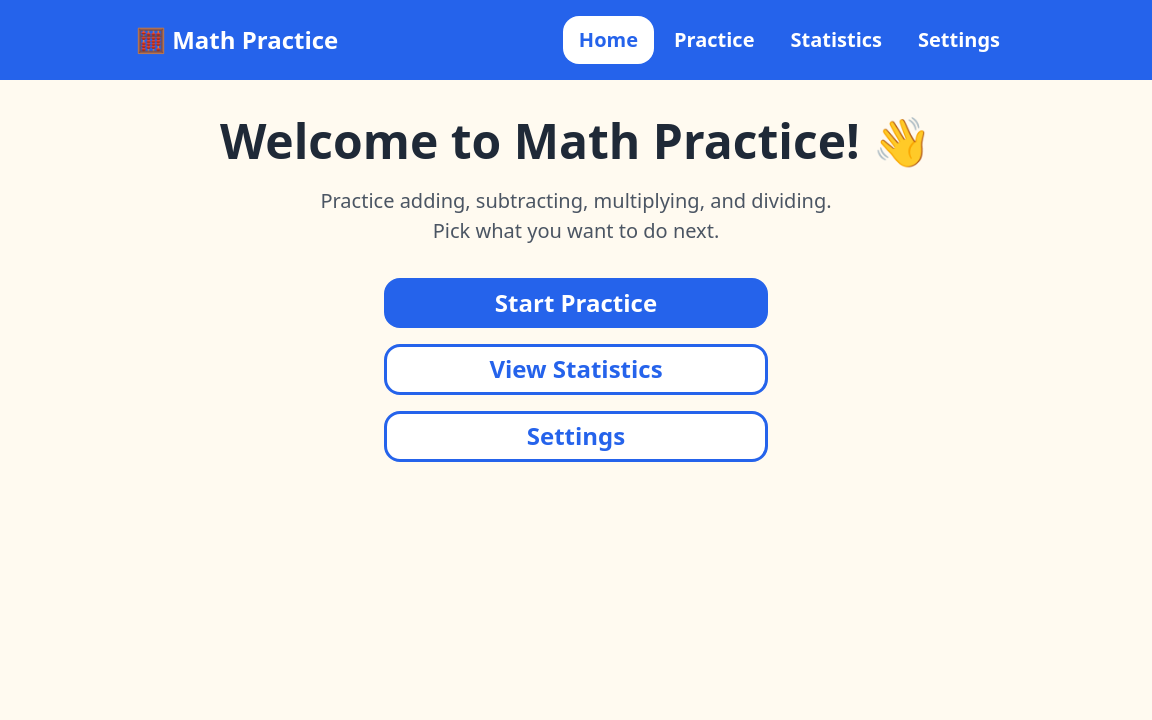
Test: HomePage › the "Settings" button goes to /settings
The image size is (1152, 720).
Click the link "Settings" below "View Statistics" at (576, 437), box [384,411,768,462]
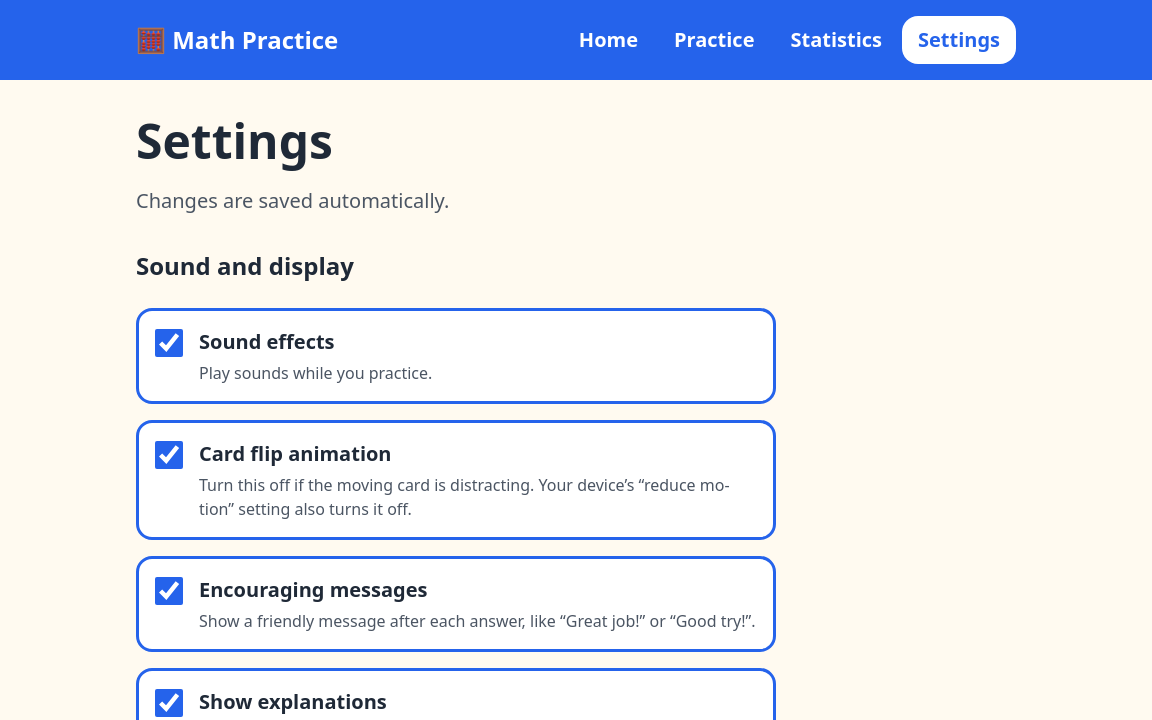
expect the heading "Settings" is shown: met, box [136,108,333,173]
